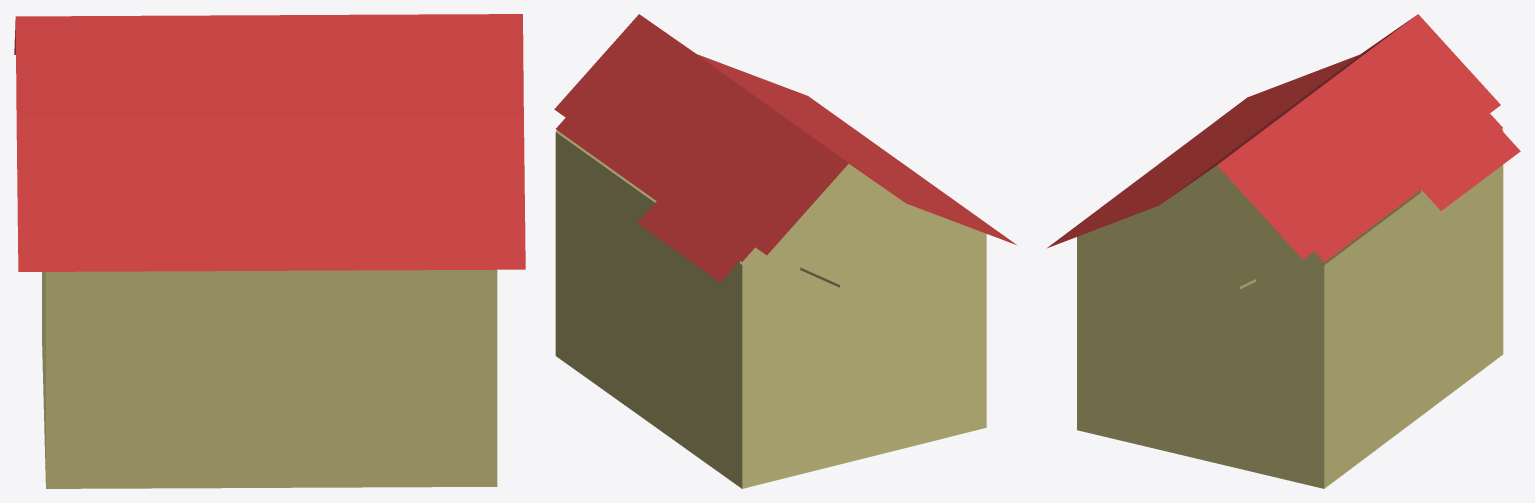
3 renders of one model, left to right at view 1: azimuth 30°, elevation 25°; view 2: azimuth 150°, elevation 25°; view 3: azimuth 270°, elevation 25°, orthographic. The views are drawn at different scales.
Size of the model in its own units: 16.64 by 15.73 by 11.31.
